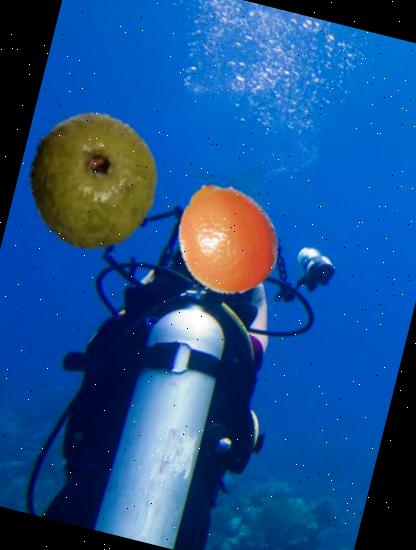Guava: (8, 97, 179, 268)
Tangelo: (158, 169, 296, 306)
